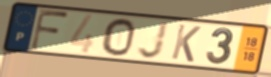3: (205, 27, 235, 67)
4: (68, 13, 96, 56)
F: (28, 7, 71, 52)
J: (135, 20, 171, 60)
K: (169, 22, 203, 64)
O: (100, 17, 136, 58)
